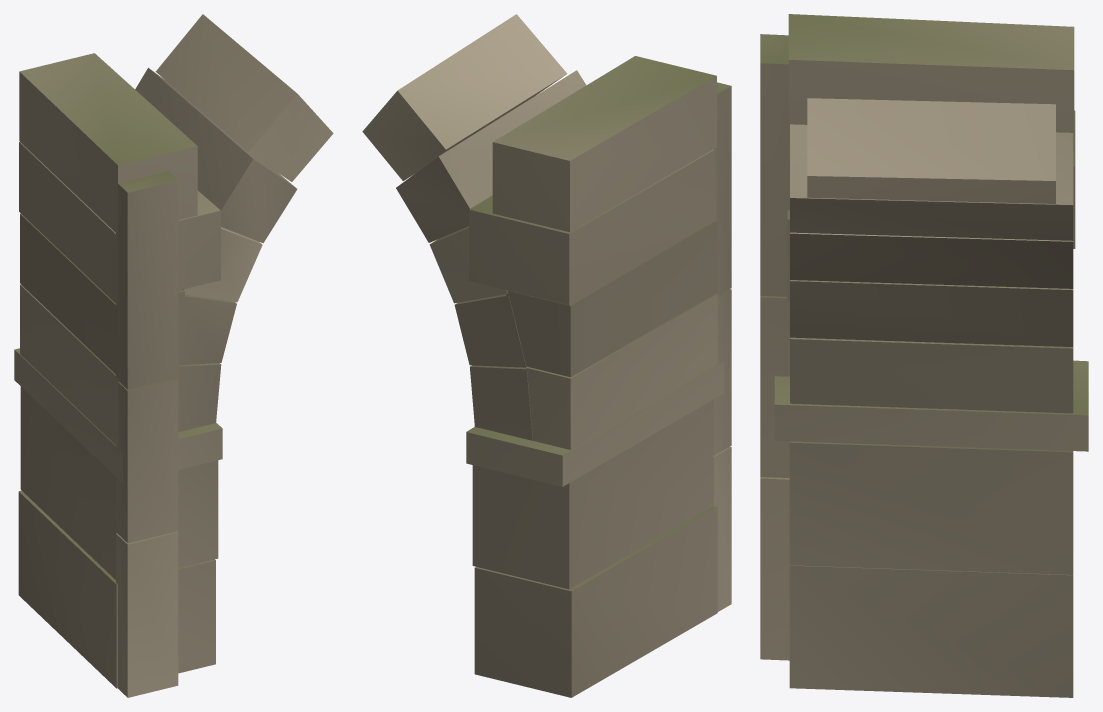
The model's file is arena_upper_broken_mid.glb.
The picture shows the model from 3 angles, left to right: view 1: azimuth 30°, elevation 25°; view 2: azimuth 150°, elevation 25°; view 3: azimuth 270°, elevation 25°; orthographic projection. The views are drawn at different scales.
Parts seen in each view (by area): view 1: arena_upper_broken_mid; view 2: arena_upper_broken_mid; view 3: arena_upper_broken_mid.
Boxes of the visible parts, bbox=[...] form: arena_upper_broken_mid: bbox=[14, 14, 333, 697]; arena_upper_broken_mid: bbox=[362, 14, 731, 697]; arena_upper_broken_mid: bbox=[760, 14, 1088, 697].
Size of the model in its own units: 5.6 by 12.4 by 5.75.
